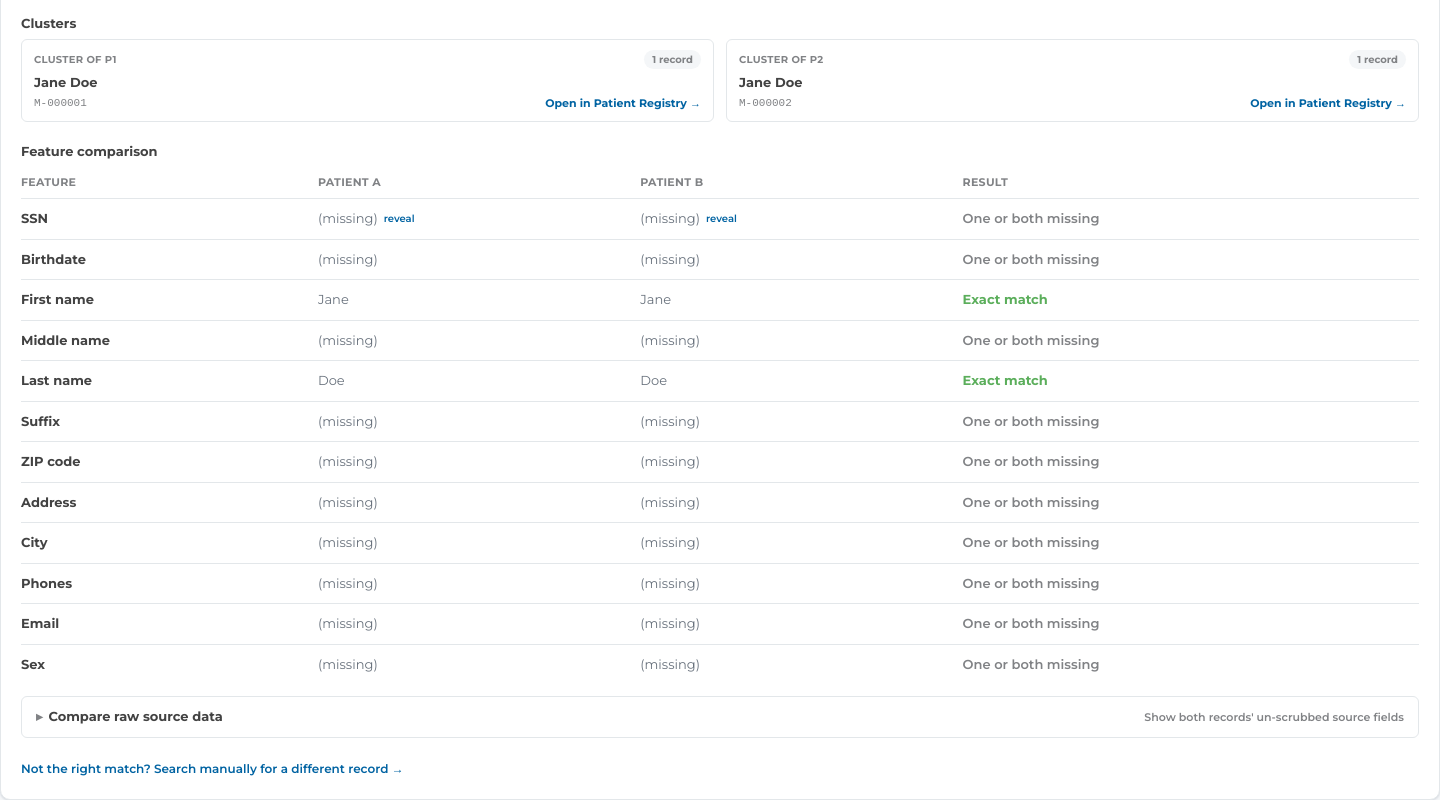
Test: ReviewCandidateDetail raw comparison › shows both records and compares them field by field
(page scrolled)
Click the button "Compare raw source data" at (136, 716), box [22,697,1418,736]
(page scrolled)
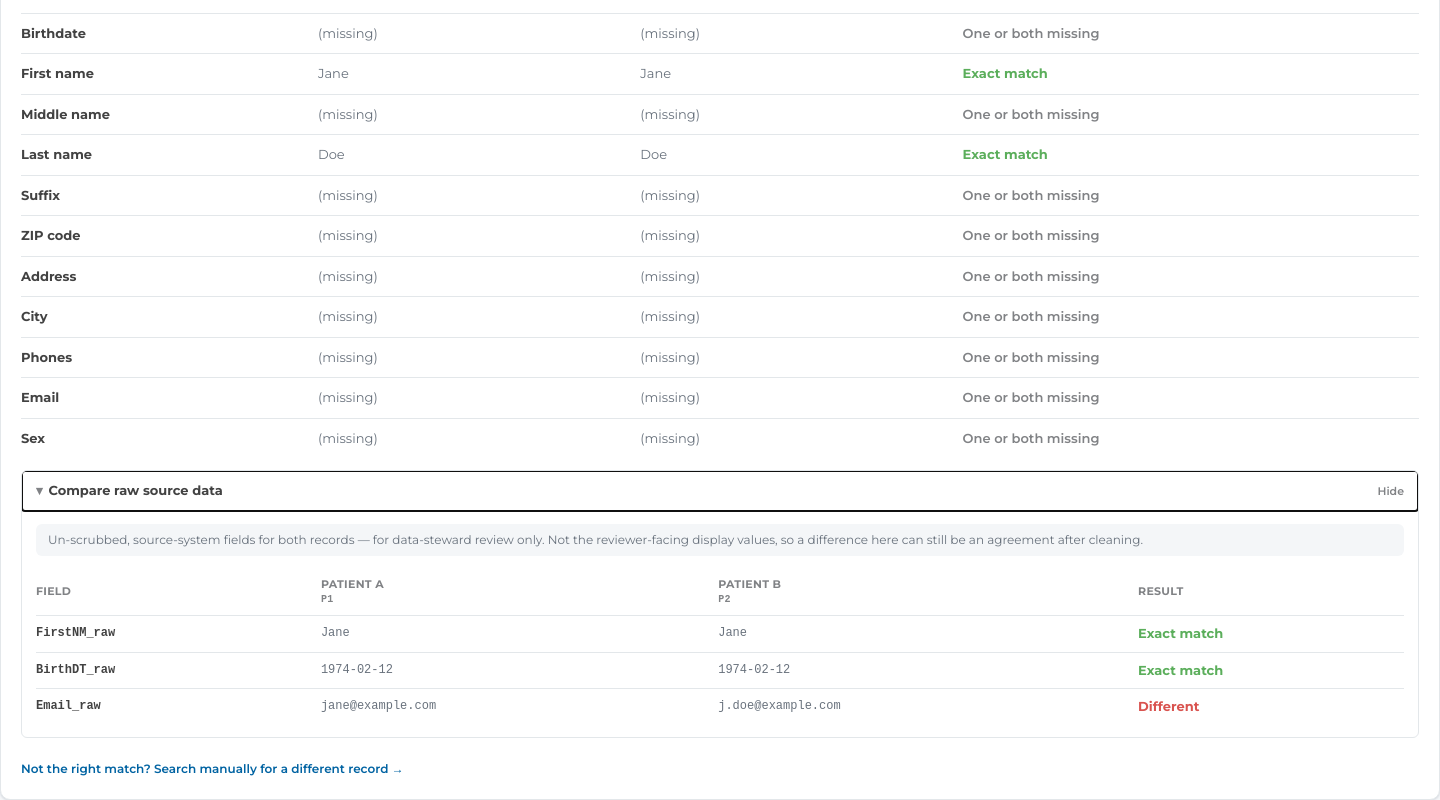
expect the text "Exact match" in the row of "FirstNM_raw" is shown: met, box [1138,625,1223,641]
expect the text "jane@example.com" is shown: met, box [321,688,718,724]
expect the text "j.doe@example.com" is shown: met, box [718,688,1138,724]
